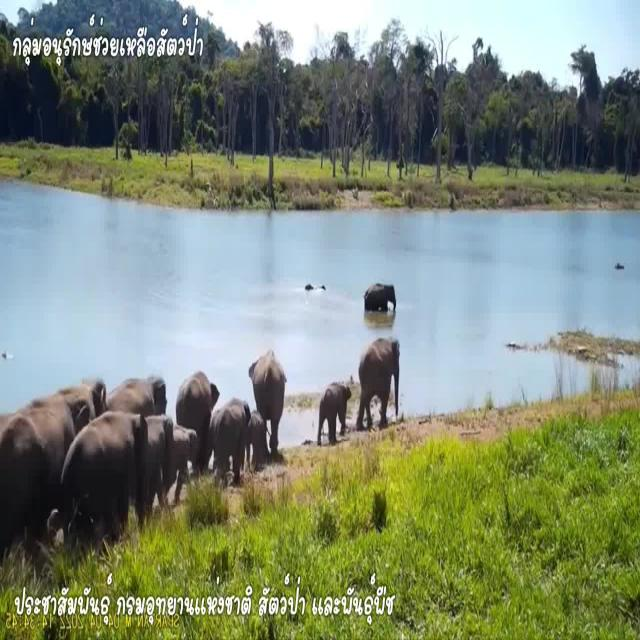Elephant: (64, 412, 150, 522), (2, 394, 72, 498), (359, 343, 401, 421), (58, 369, 110, 423), (178, 370, 220, 434), (111, 375, 169, 421), (249, 353, 289, 412), (213, 402, 251, 459), (320, 379, 351, 434), (364, 281, 399, 315)
